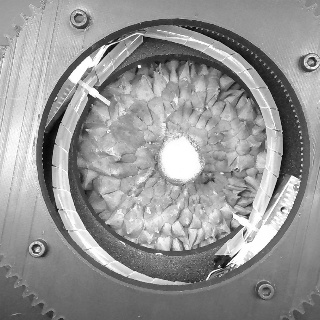base: (153, 133, 206, 191)
end: (160, 135, 202, 181)
